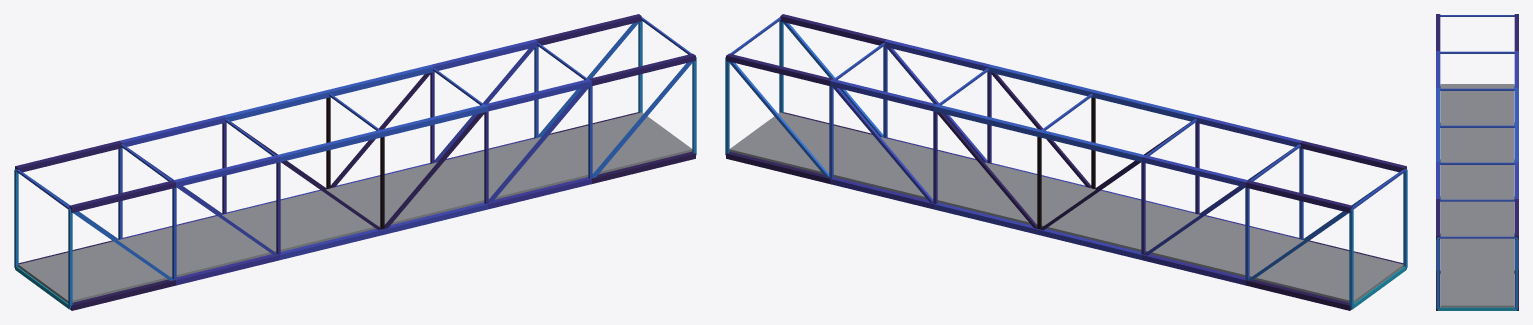
File: 20_3_6_HEA240.glb
3 renders of one model, left to right at view 1: azimuth 30°, elevation 25°; view 2: azimuth 150°, elevation 25°; view 3: azimuth 270°, elevation 25°, orthographic. The views are drawn at different scales.
Bounding box in the file's own units: 20.09 × 3.16 × 3.16.
